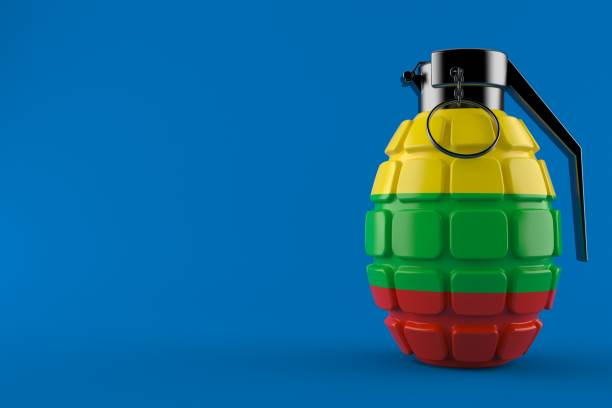e1: (361, 47, 587, 365)
